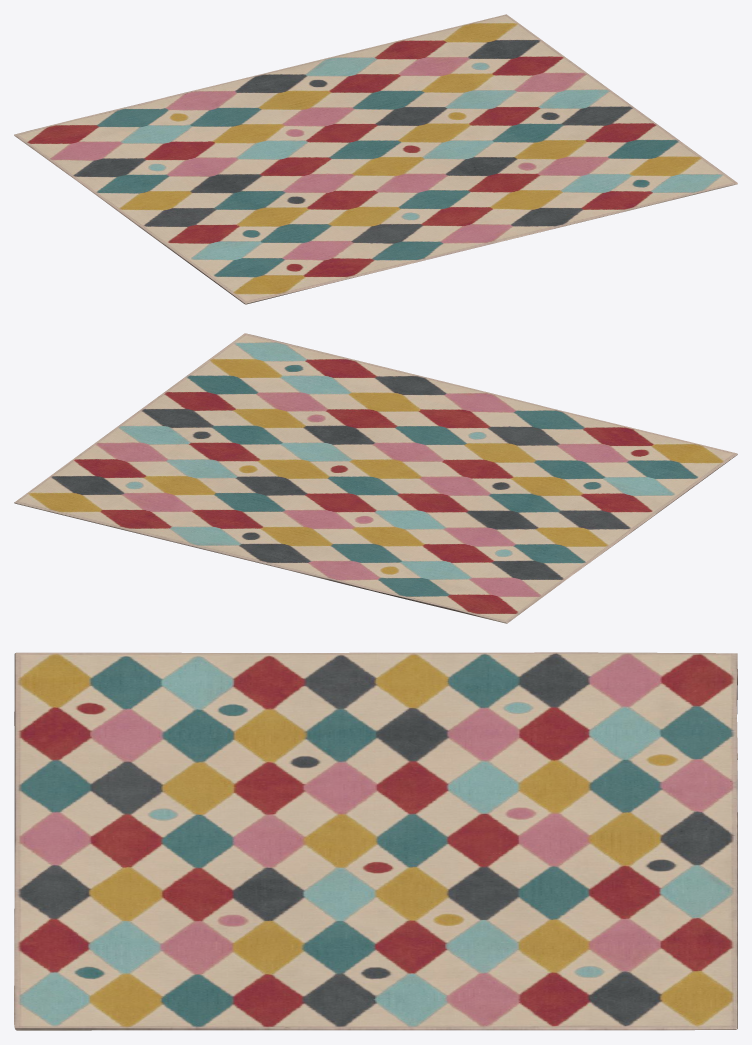
The model's file is busenkel_dywan_60520427.glb.
3 renders of one model, top to bottom at view 1: azimuth 30°, elevation 25°; view 2: azimuth 150°, elevation 25°; view 3: azimuth 270°, elevation 25°, orthographic. The views are drawn at different scales.
Visible parts, largest first — view 1: busenkel_dywan_60520427; view 2: busenkel_dywan_60520427; view 3: busenkel_dywan_60520427.
Boxes of the visible parts, x1=… form: busenkel_dywan_60520427: x1=14, y1=14, x2=737, y2=304; busenkel_dywan_60520427: x1=14, y1=333, x2=737, y2=623; busenkel_dywan_60520427: x1=14, y1=652, x2=737, y2=1030.
Bounding box in the file's own units: 1.6 × 0.00622 × 1.3.
Materials: 1 (1 with a texture image).
